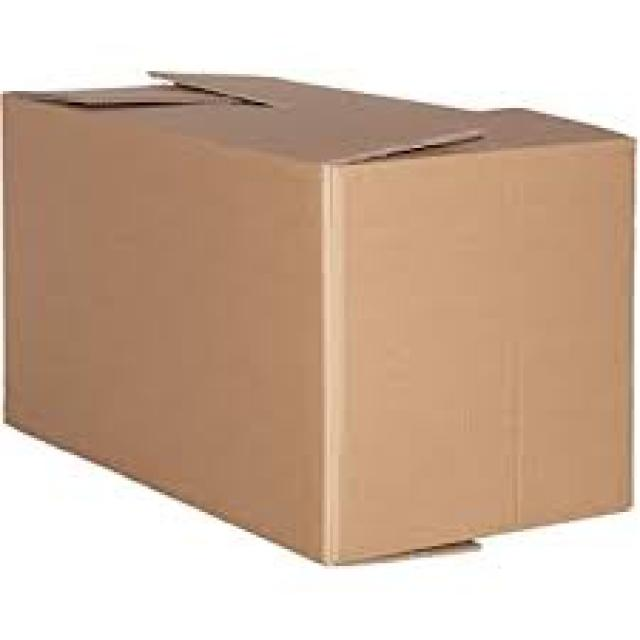cardboard: (0, 65, 631, 563)
